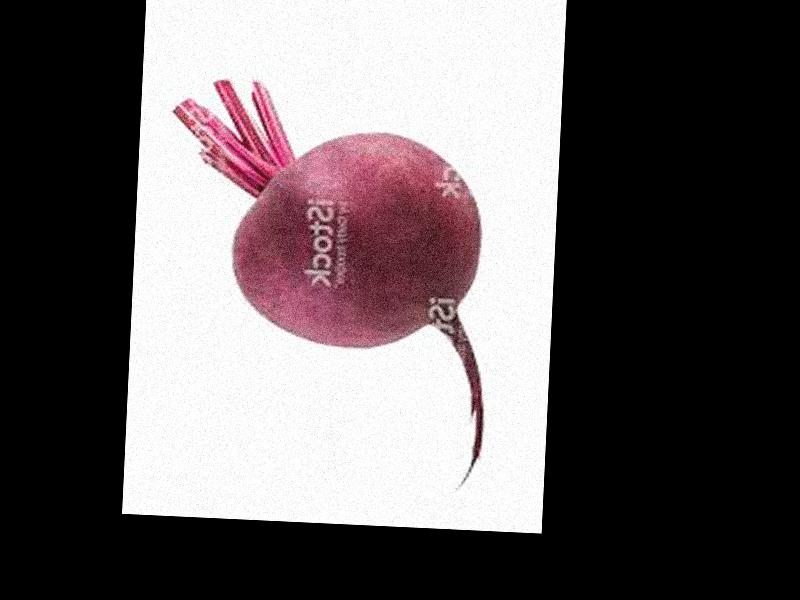Beet: (156, 76, 496, 490)
